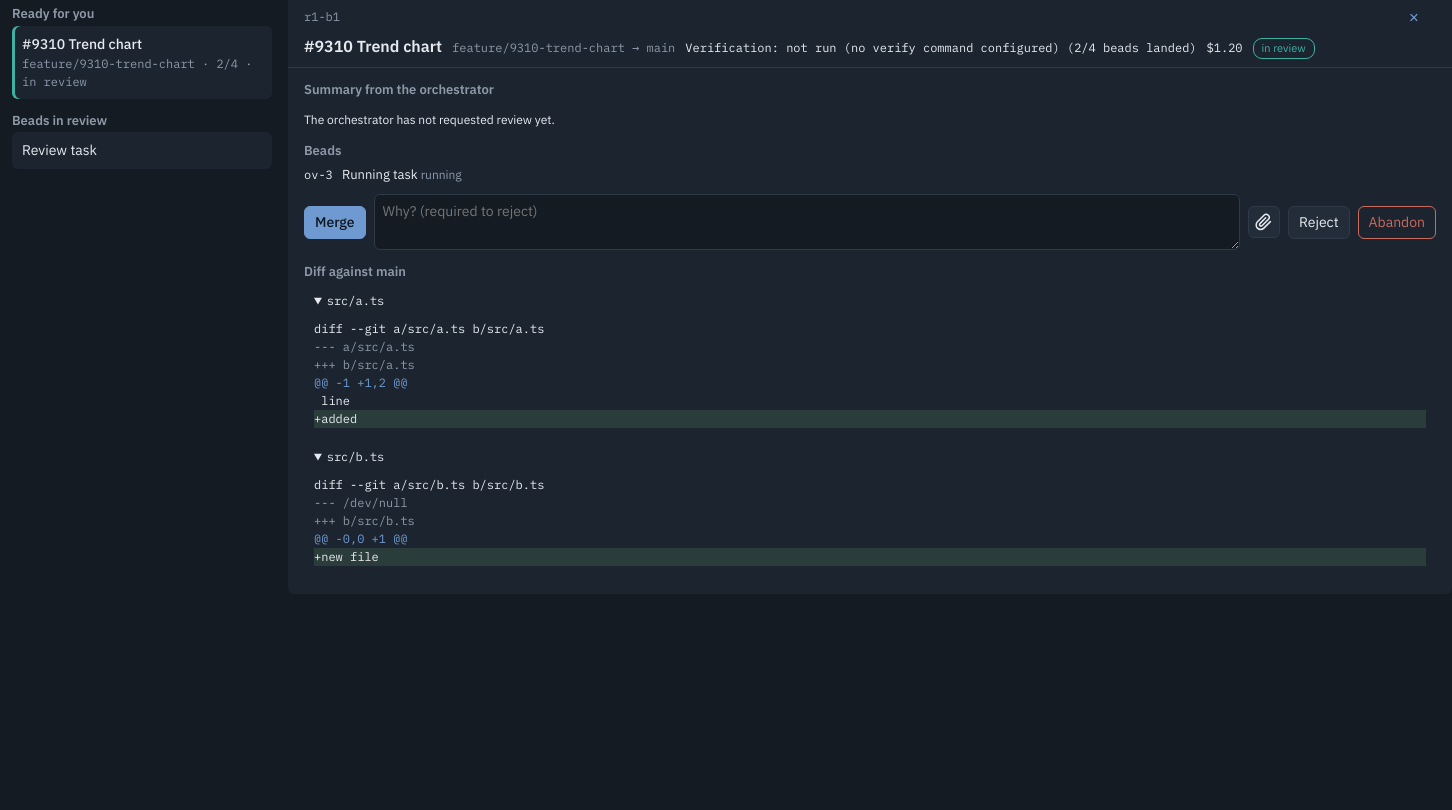
Scenario: Review › announces an empty rejection note and moves focus to the note field
Click the button "Reject": (1319, 222) left=1288, top=206, right=1350, bottom=238
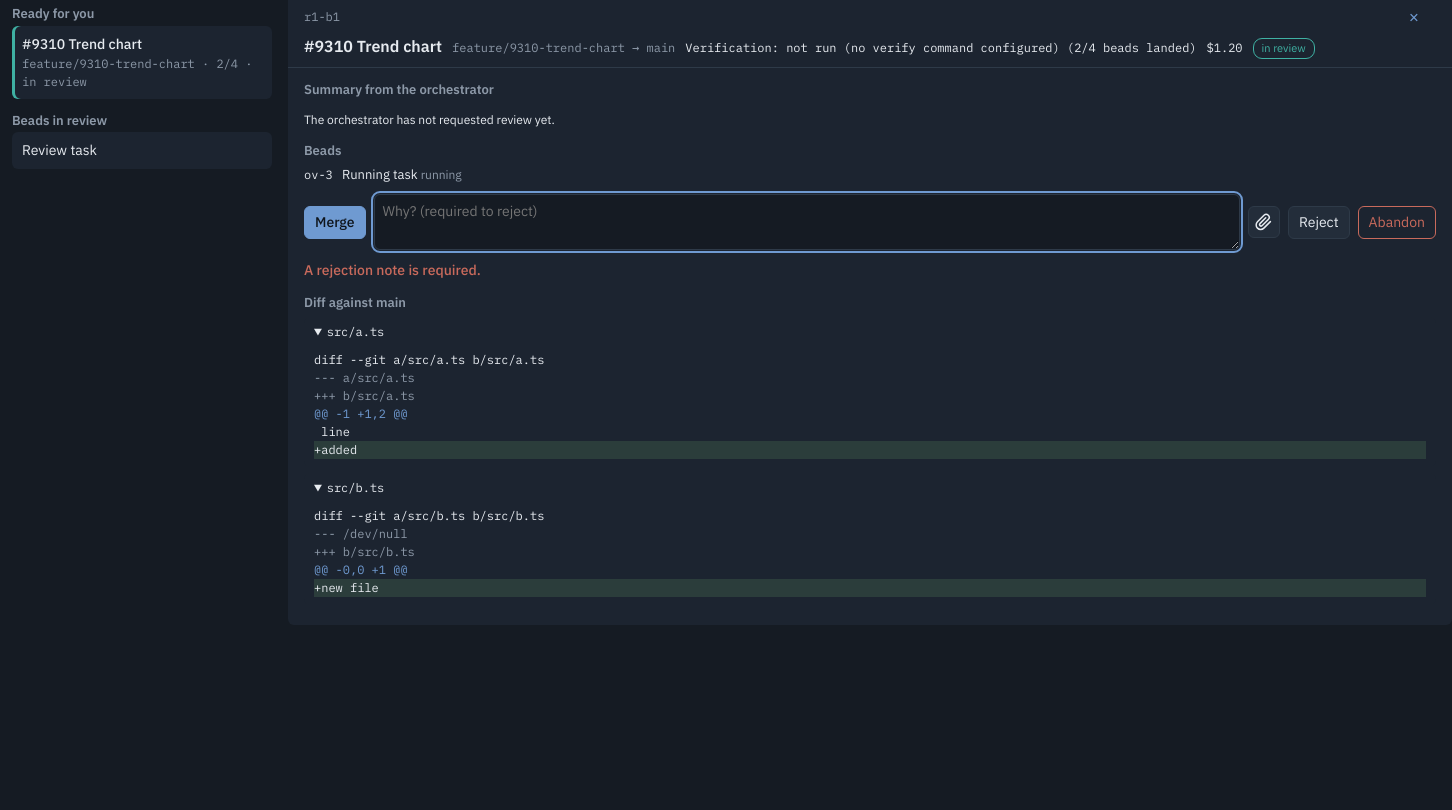
expect the message reads "A rejection note is required.": met, box left=304, top=261, right=481, bottom=279
